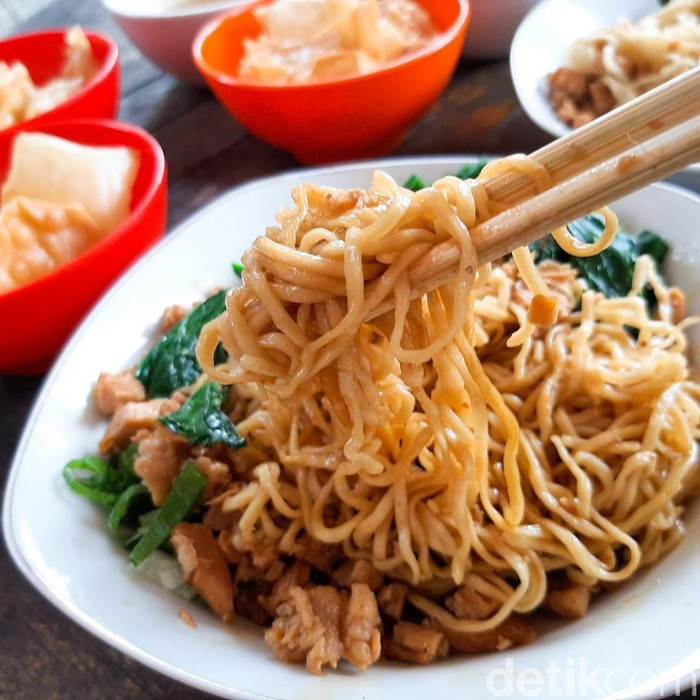Mie: (128, 221, 692, 645)
